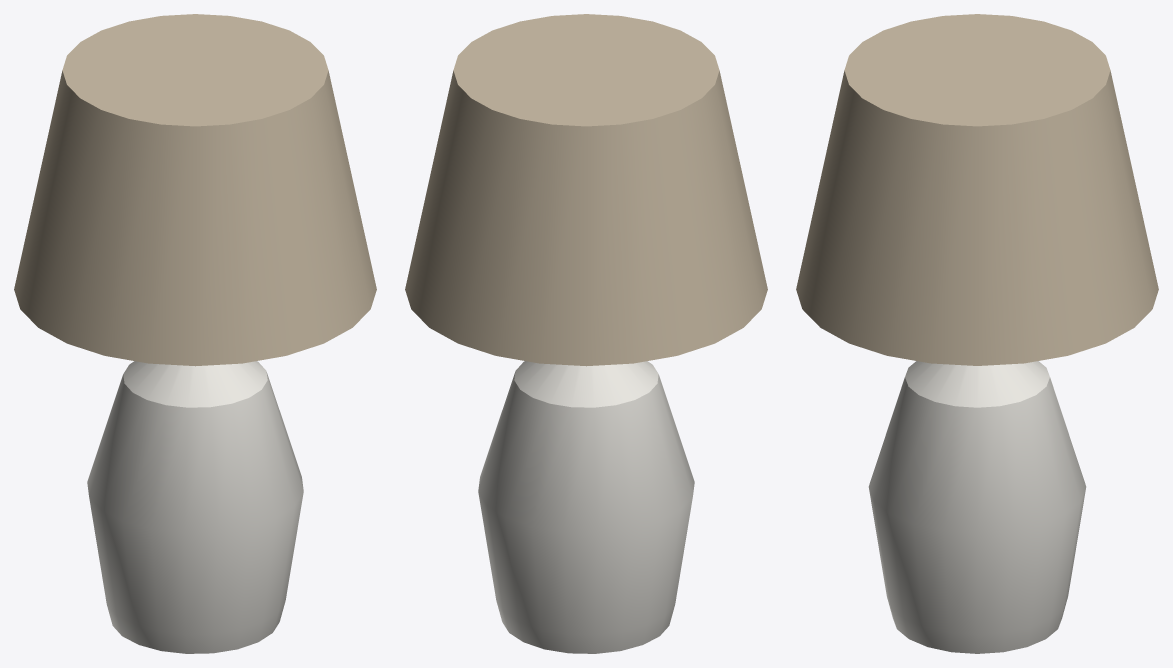
Rendered from prop_table_lamp.glb.
The picture shows the model from 3 angles, left to right: view 1: azimuth 30°, elevation 25°; view 2: azimuth 150°, elevation 25°; view 3: azimuth 270°, elevation 25°; orthographic projection.
Parts seen in each view (by area): view 1: Lamp; view 2: Lamp; view 3: Lamp.
Boxes of the visible parts, bbox=[...] form: Lamp: bbox=[14, 14, 376, 653]; Lamp: bbox=[405, 14, 767, 653]; Lamp: bbox=[796, 14, 1158, 653].
Size of the model in its own units: 0.3 by 0.5 by 0.3.
